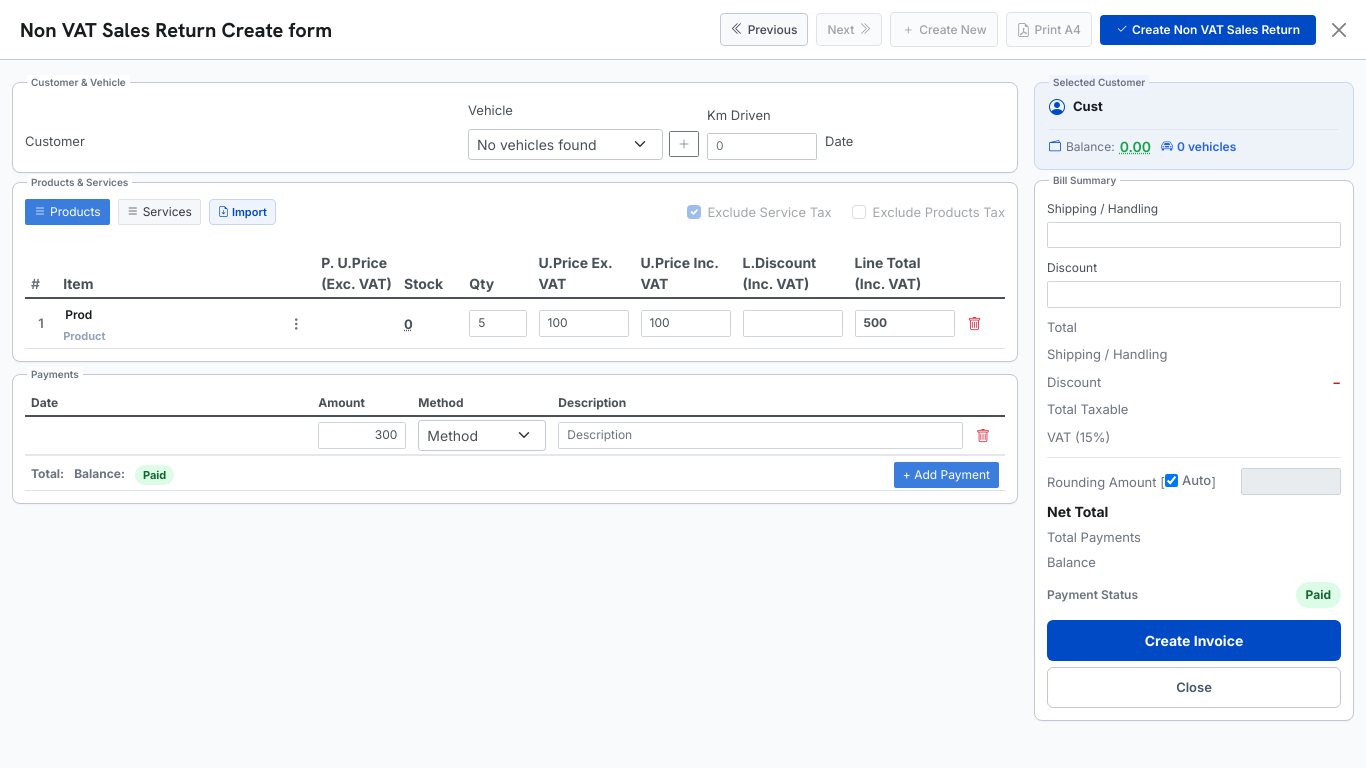
Test: Non VAT Sales Return form — submit › shows the errors the API answers with
Step 1. Select "Cash" in the dropdown below "Method" → coordinates (482, 435), box 418,420 -> 546,451
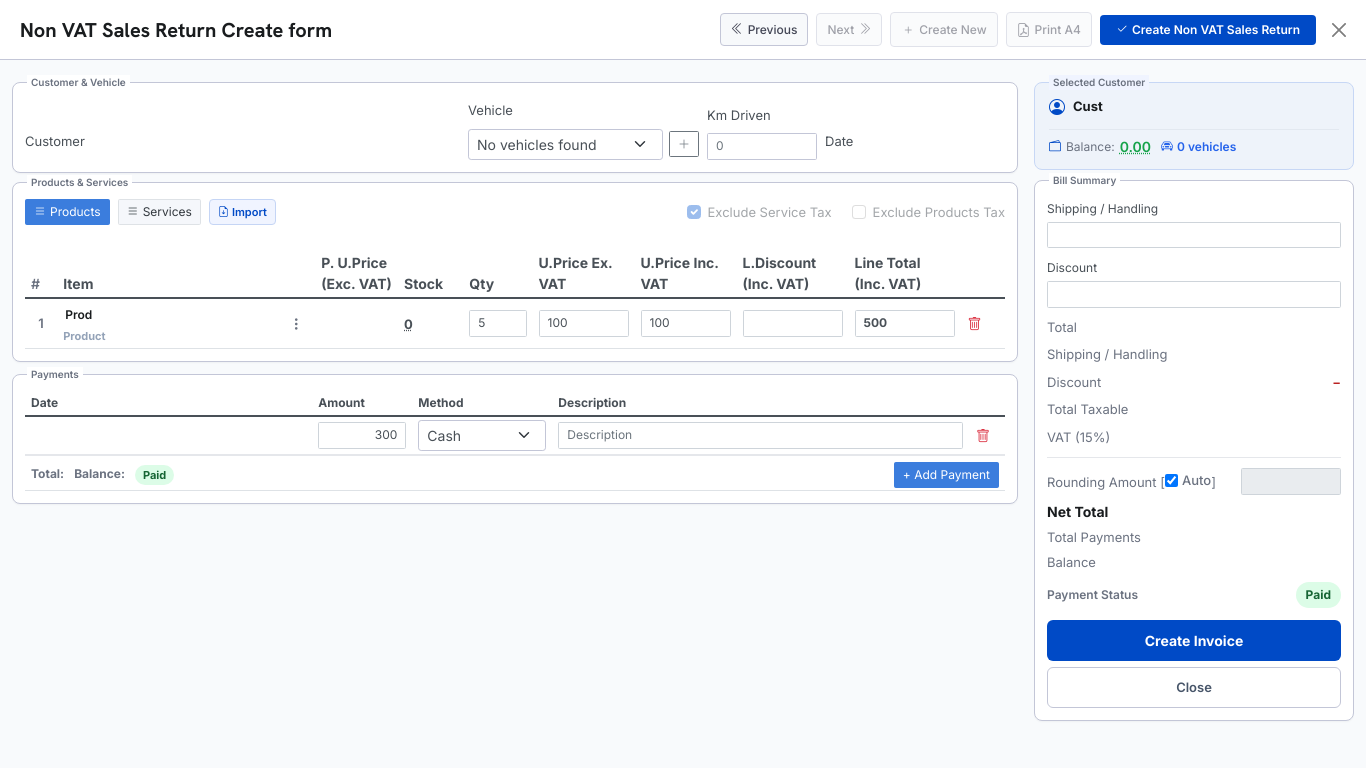
Step 2. Submit the form
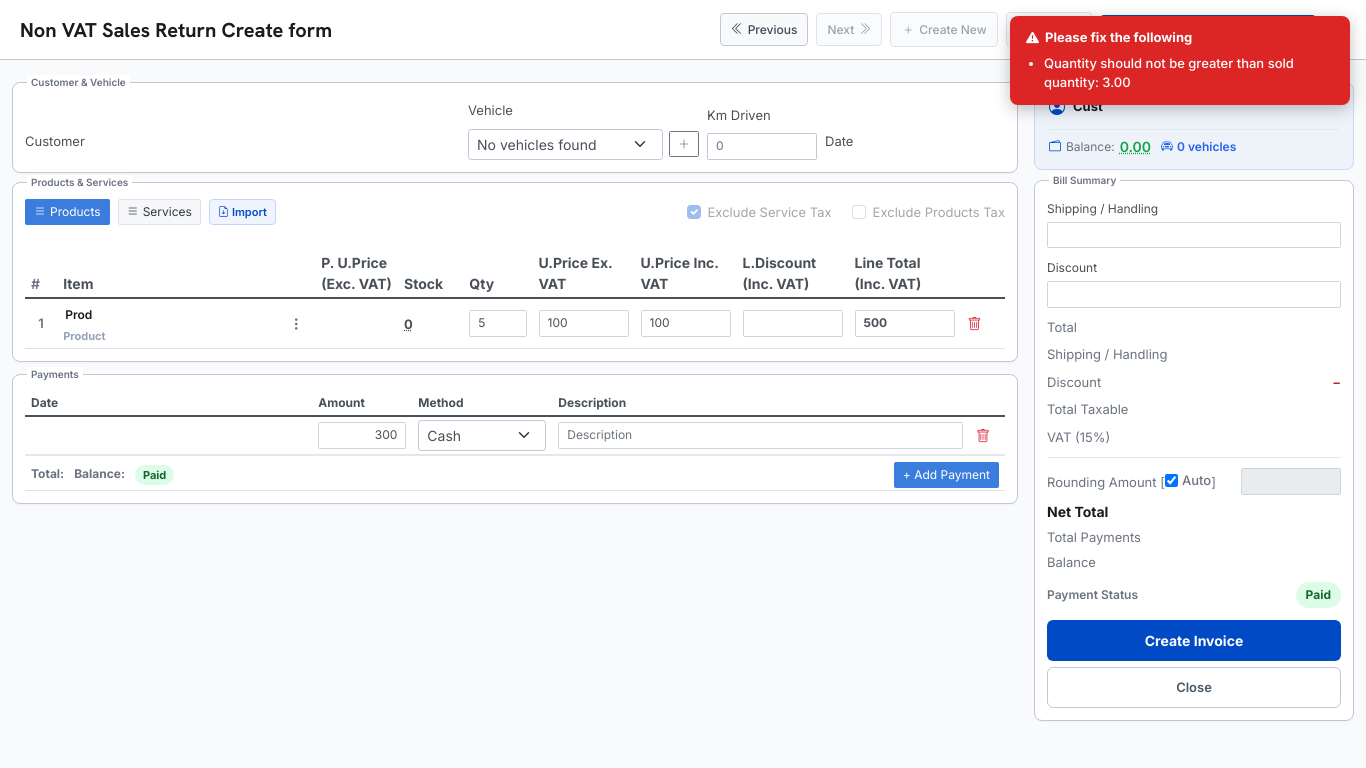
Expected: the list item "Quantity should not be greater than sold quantity: 3.00" is shown, 1044,54 -> 1334,92
